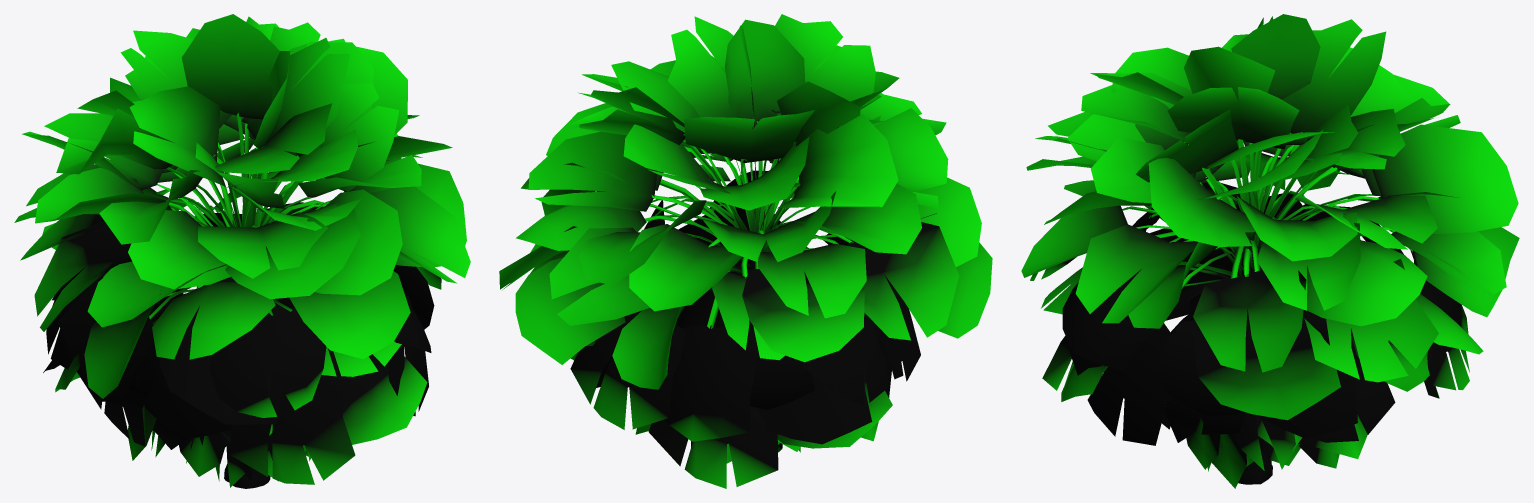
The picture shows the model from 3 angles, left to right: view 1: azimuth 30°, elevation 25°; view 2: azimuth 150°, elevation 25°; view 3: azimuth 270°, elevation 25°; orthographic projection. The views are drawn at different scales.
Parts seen in each view (by area): view 1: SM_TR_CaliforniaPalm_5m_HD; view 2: SM_TR_CaliforniaPalm_5m_HD; view 3: SM_TR_CaliforniaPalm_5m_HD.
Part boxes in pixels (x1,y1,x2,y2): SM_TR_CaliforniaPalm_5m_HD: (14, 14, 470, 488); SM_TR_CaliforniaPalm_5m_HD: (499, 14, 992, 488); SM_TR_CaliforniaPalm_5m_HD: (1021, 14, 1519, 488).
Size of the model in its own units: 197 by 184 by 202.
